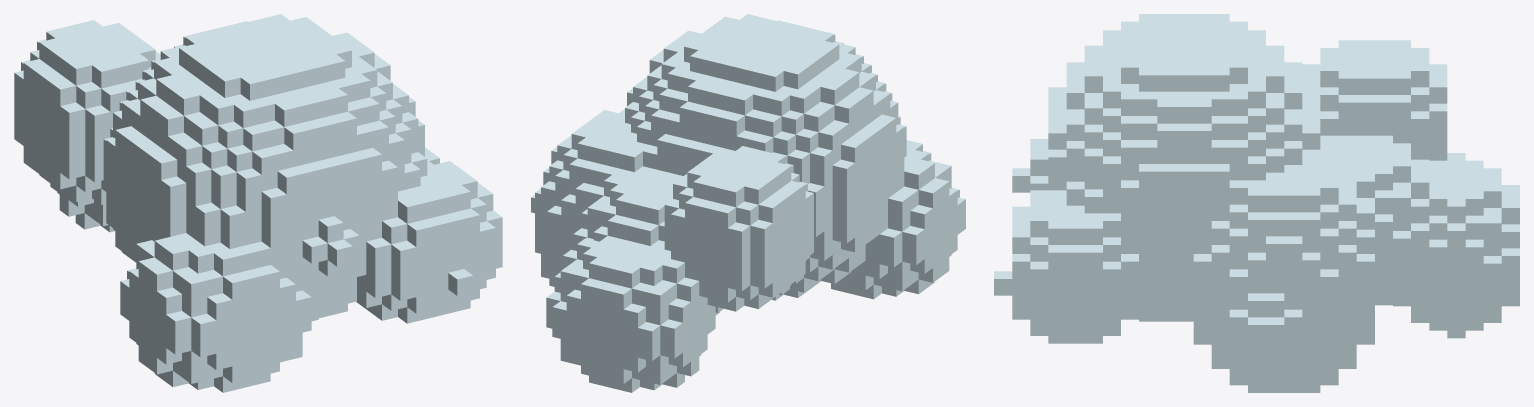
Rendered from CloudTwo.fbx.
3 views of the same model, side by side, from view 1: azimuth 30°, elevation 25°; view 2: azimuth 150°, elevation 25°; view 3: azimuth 270°, elevation 25° (orthographic). The views are drawn at different scales.
Parts seen in each view (by area): view 1: CloudTwo; view 2: CloudTwo; view 3: CloudTwo.
Part boxes in pixels (x1=…): CloudTwo: x1=14, y1=14, x2=502, y2=392; CloudTwo: x1=531, y1=14, x2=965, y2=392; CloudTwo: x1=994, y1=14, x2=1519, y2=392.
Size of the model in its own units: 2900 by 2300 by 1700.
